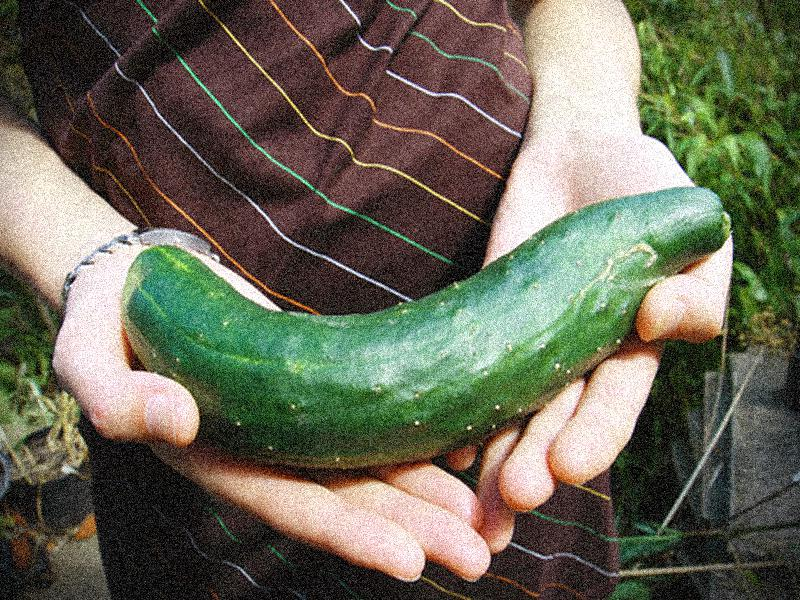Cucumber: (121, 186, 727, 468)
